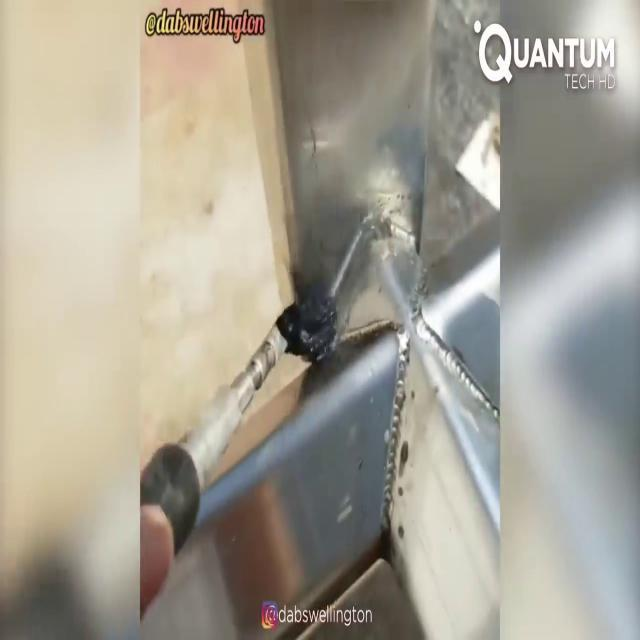Good Welding: (416, 313, 500, 423)
